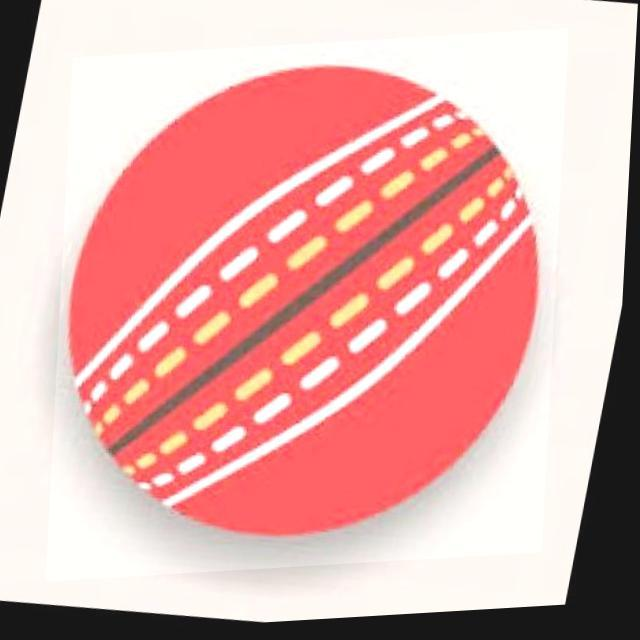-: (52, 35, 570, 582)
